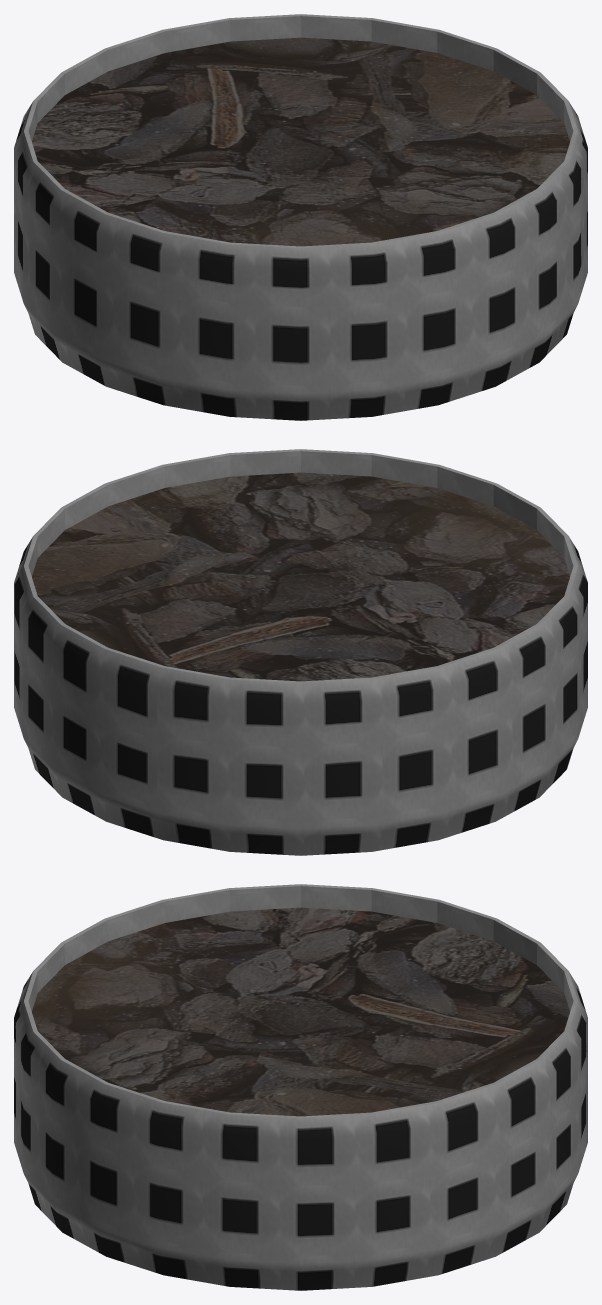
File: flower_bed_mesh.fbx
3 views of the same model, one above another, from view 1: azimuth 30°, elevation 25°; view 2: azimuth 150°, elevation 25°; view 3: azimuth 270°, elevation 25° (orthographic).
Parts seen in each view (by area): view 1: pCylinder1; view 2: pCylinder1; view 3: pCylinder1.
Boxes of the visible parts, box(x1,y1,x2,y2) form: pCylinder1: box(14, 14, 587, 420); pCylinder1: box(14, 449, 587, 855); pCylinder1: box(14, 884, 587, 1290).
Size of the model in its own units: 150 by 49.95 by 150.
1 material, 1 textured.
